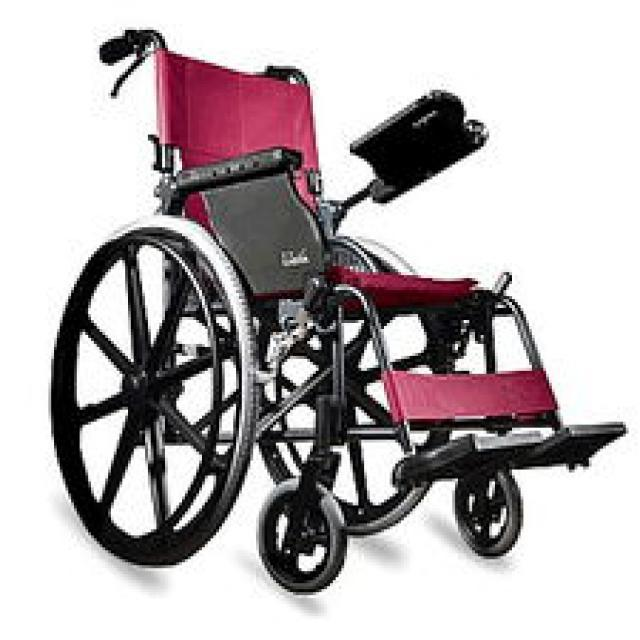wheelchair: (51, 24, 626, 595)
